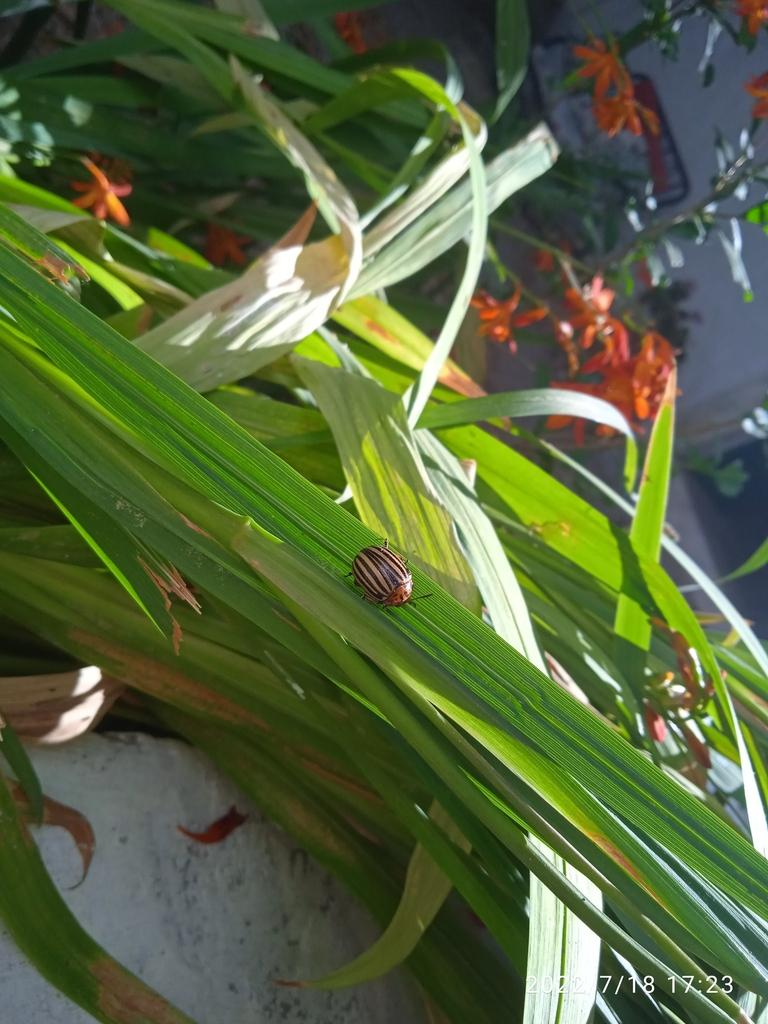potato_beetle: (329, 522, 446, 628)
